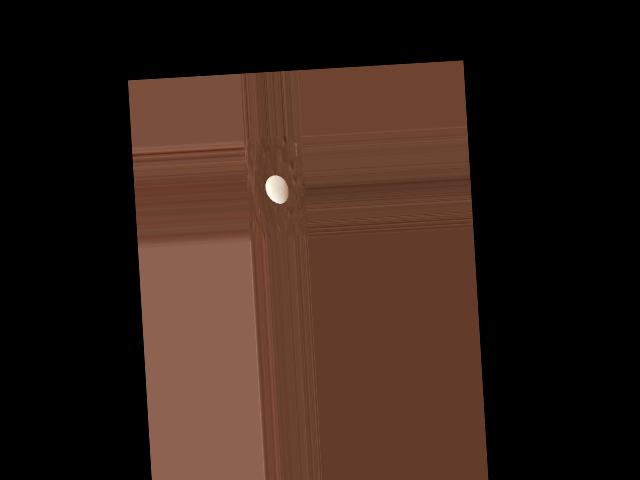egg: (265, 174, 289, 205)
